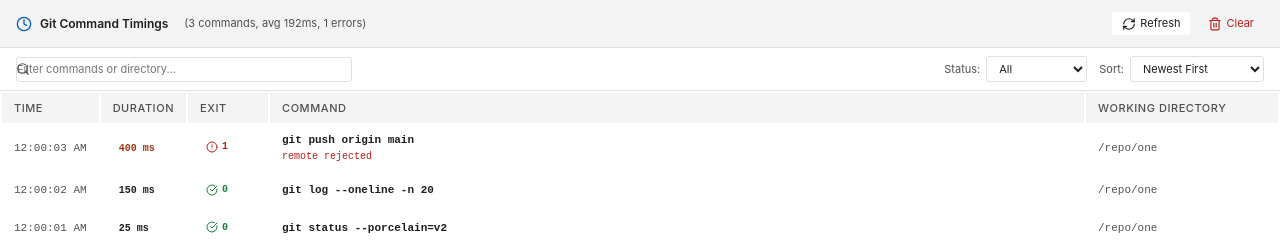
Test: GitTimingsView › clears records when clear button is clicked
Click the button with test id "clear-btn" at point(1231, 24), box [1198, 12, 1264, 35]
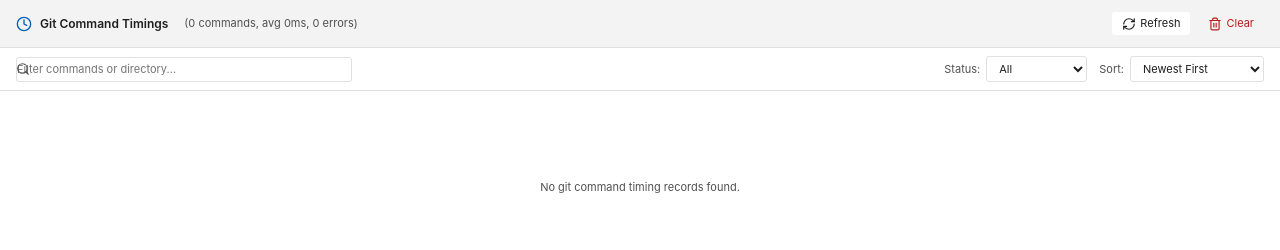
Expected: the text "No git command timing records found." is shown, [540, 180, 740, 194]
Expected: the text "git status --porcelain=v2" is gone
